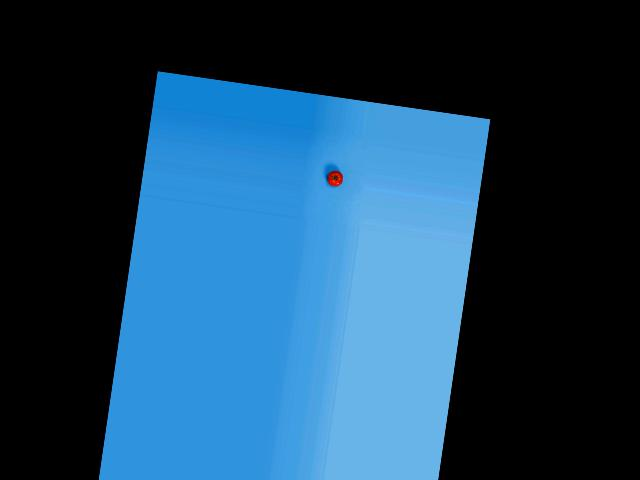tomato: (326, 168, 344, 186)
